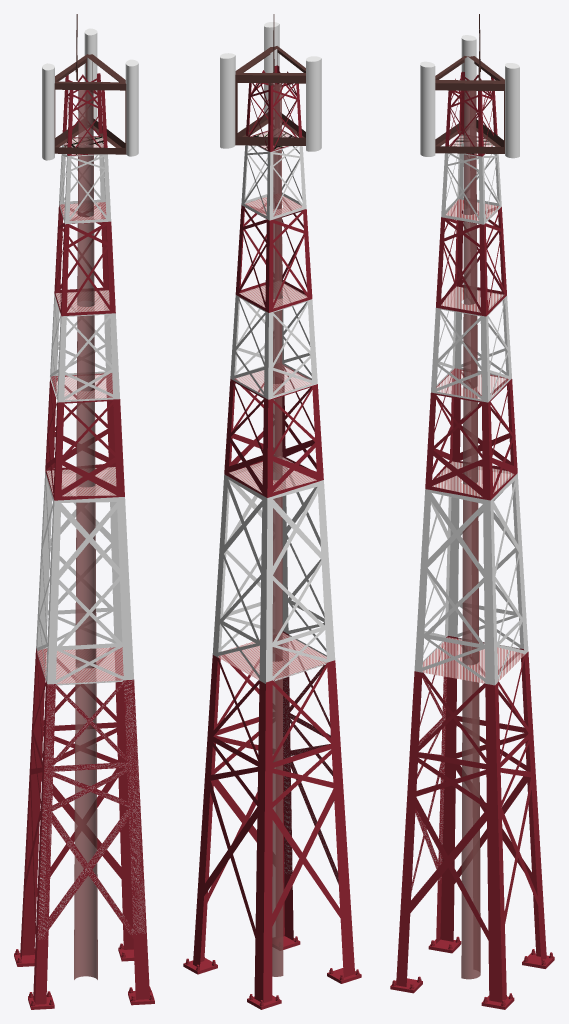
The model's file is tornis_2017_v3.dae.
The picture shows the model from 3 angles, left to right: view 1: azimuth 30°, elevation 25°; view 2: azimuth 150°, elevation 25°; view 3: azimuth 270°, elevation 25°; orthographic projection.
Visible parts, largest first — view 1: SketchUp (×16), group_16 (×4); view 2: SketchUp (×16), group_16 (×4); view 3: SketchUp (×14), group_16 (×4).
Boxes of the visible parts, box(x1,y1,x2,y2) form: SketchUp (×16): box(20, 73, 149, 1004); group_16 (×4): box(42, 28, 138, 160); SketchUp (×16): box(193, 65, 355, 1003); group_16 (×4): box(220, 22, 321, 151); SketchUp (×14): box(396, 71, 546, 1002); group_16 (×4): box(420, 35, 519, 158).
Size of the model in its own units: 342 by 338 by 2176.
8 materials, 2 textured.
